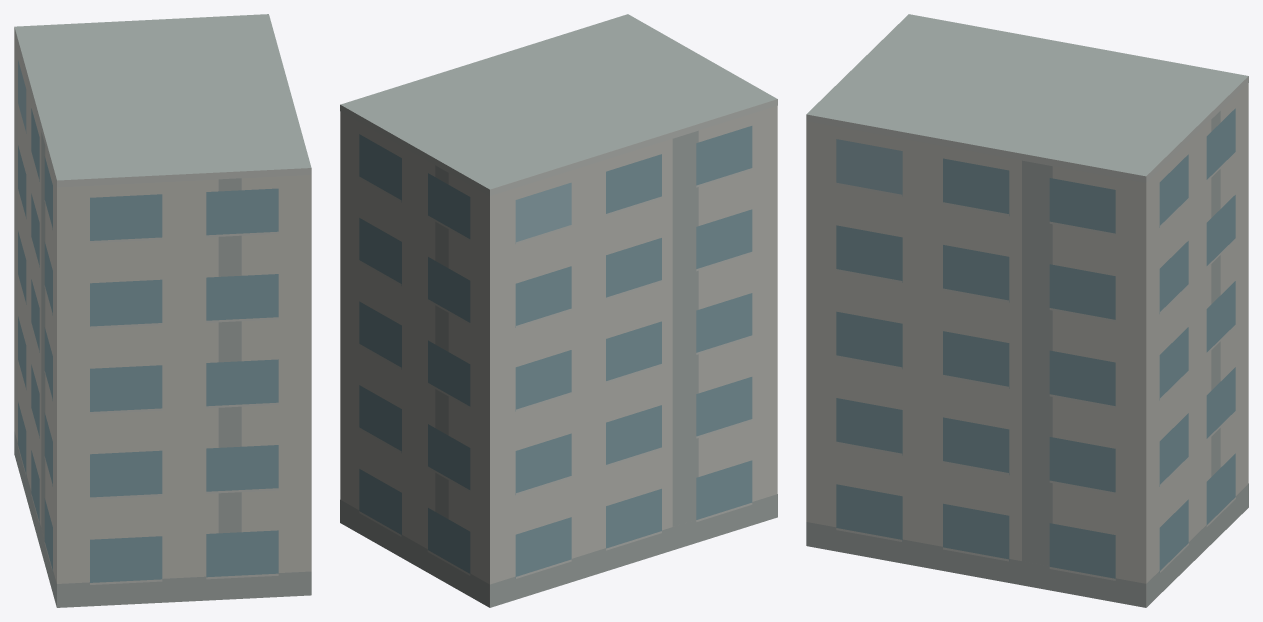
Rendered from residential-3b14ddcd-d691-482b-b01d-577d6b80cdc3.glb.
3 renders of one model, left to right at view 1: azimuth 30°, elevation 25°; view 2: azimuth 150°, elevation 25°; view 3: azimuth 270°, elevation 25°, orthographic. The views are drawn at different scales.
Parts seen in each view (by area): view 1: residential-3b14ddcd-d691-482b-b01d-577d6b80cdc3.tmp; view 2: residential-3b14ddcd-d691-482b-b01d-577d6b80cdc3.tmp; view 3: residential-3b14ddcd-d691-482b-b01d-577d6b80cdc3.tmp.
Boxes of the visible parts, left/top/right/bottom form: residential-3b14ddcd-d691-482b-b01d-577d6b80cdc3.tmp: left=14, top=14, right=311, bottom=607; residential-3b14ddcd-d691-482b-b01d-577d6b80cdc3.tmp: left=340, top=14, right=777, bottom=607; residential-3b14ddcd-d691-482b-b01d-577d6b80cdc3.tmp: left=806, top=14, right=1248, bottom=607.
Size of the model in its own units: 12.31 by 15.25 by 14.18.
